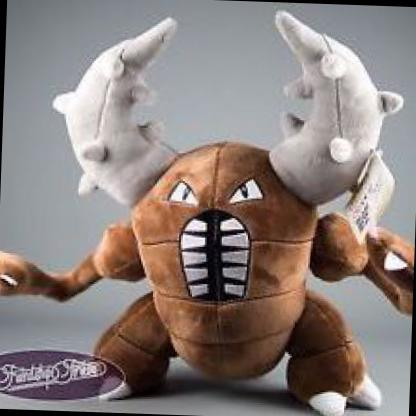Pinsir: (7, 1, 416, 416)
